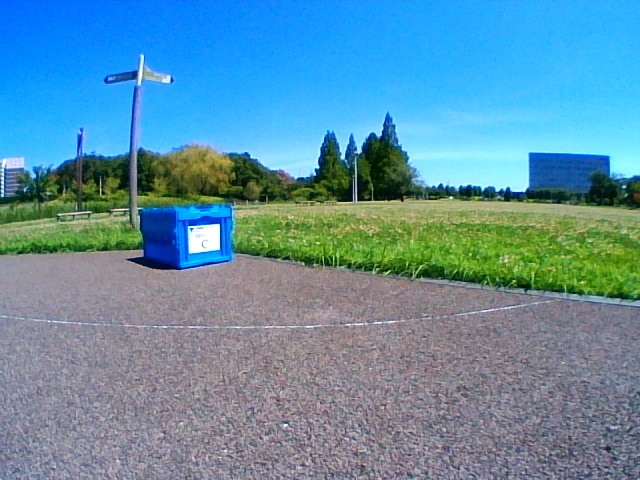blue_box: (143, 206, 233, 261)
tag: (190, 226, 218, 251)
